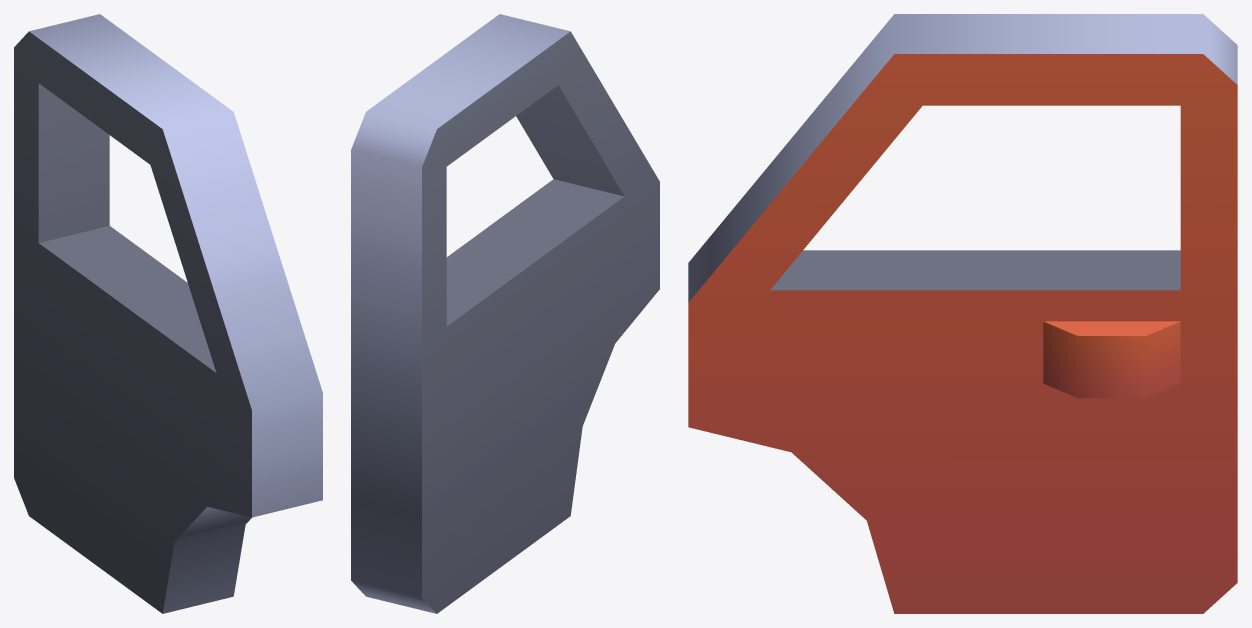
The model's file is debris-door.glb.
3 renders of one model, left to right at view 1: azimuth 30°, elevation 25°; view 2: azimuth 150°, elevation 25°; view 3: azimuth 270°, elevation 25°, orthographic. The views are drawn at different scales.
Parts seen in each view (by area): view 1: debris-door; view 2: debris-door; view 3: debris-door.
Boxes of the visible parts, box(x1,y1,x2,y2) form: debris-door: box(14, 14, 322, 613); debris-door: box(351, 14, 659, 613); debris-door: box(688, 14, 1237, 613).
Size of the model in its own units: 0.188 by 0.9 by 0.8.
Materials: 1 (1 with a texture image).
